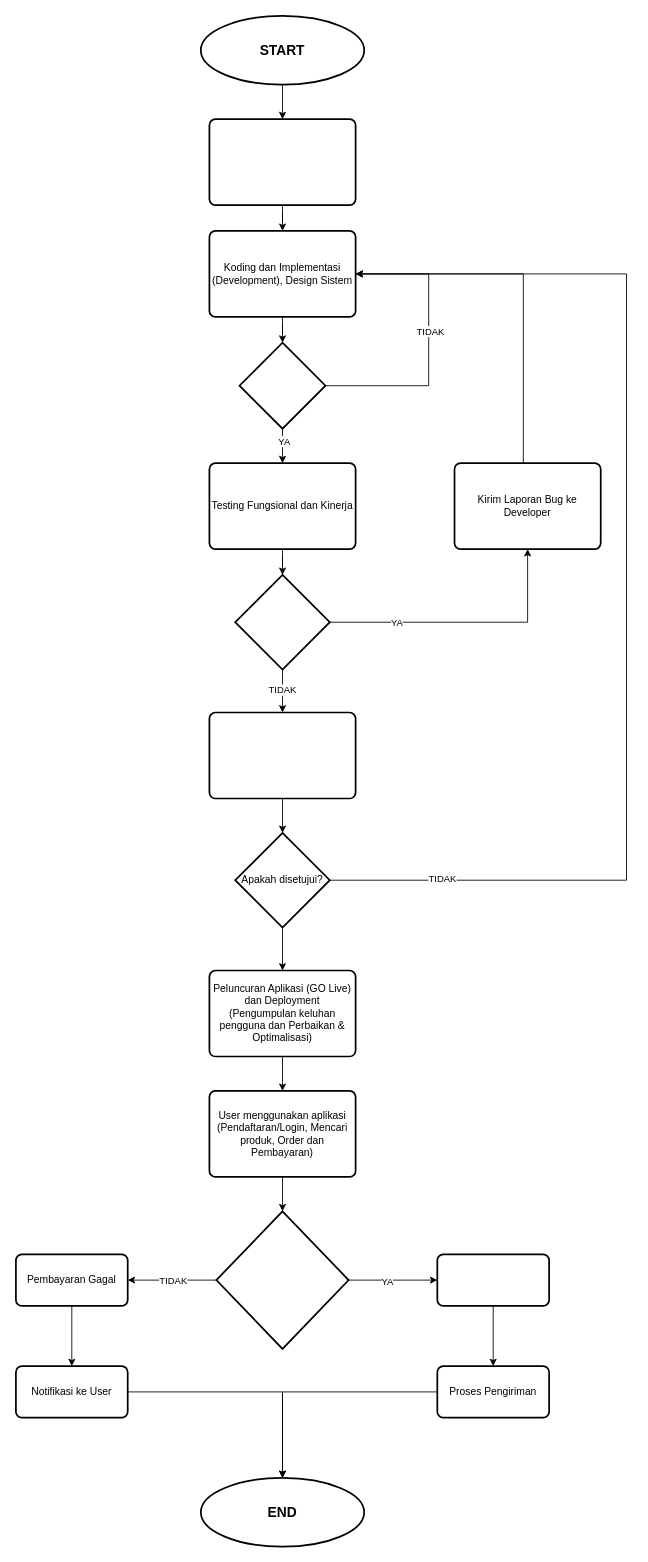
The diagram is 648 pixels wide and 1562 high, and some of its shapes have lost their labels. Each missing label, with the box of its shape:
Apakah sudah selesai?: (238, 341, 326, 429)
Definisikan Kebutuhan dan Design (Analisis Kebutuhan): (208, 118, 356, 206)
Ditemukan Bug?: (234, 574, 330, 670)
Pembayaran Berhasil: (436, 1253, 550, 1306)
Testing Keamanan Data: (208, 711, 356, 799)
Validasi Pembayaran? Apakah Berhasil?: (215, 1210, 349, 1349)
